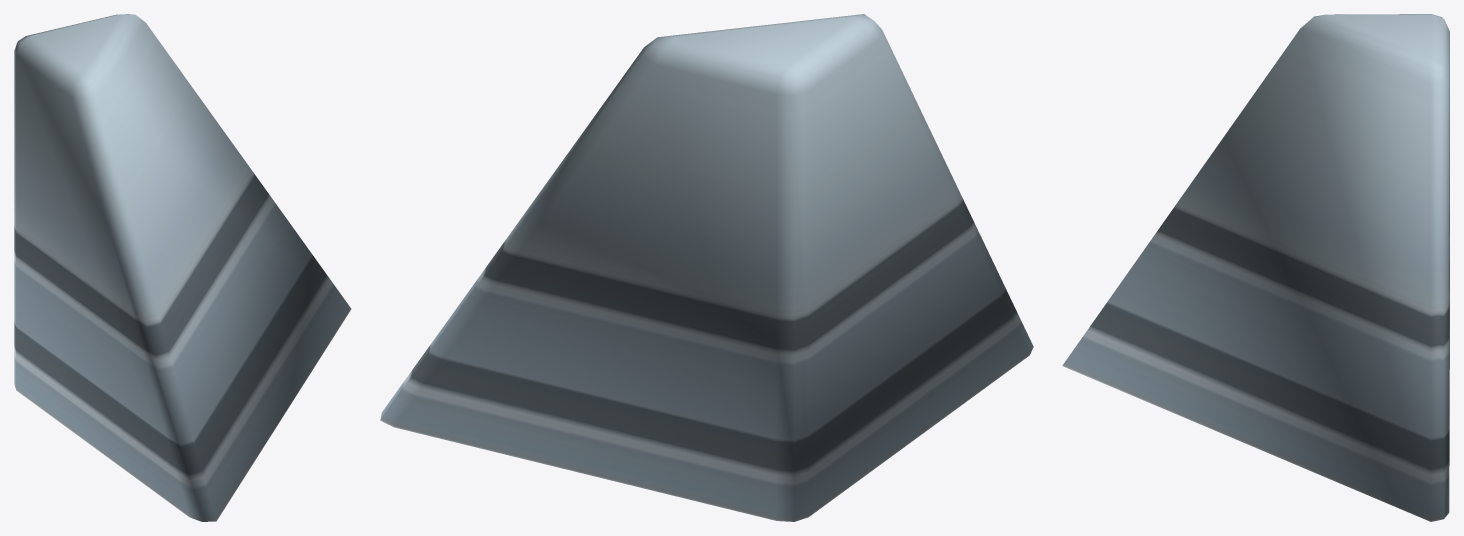
The model's file is wall_angle.obj.
3 views of the same model, side by side, from view 1: azimuth 30°, elevation 25°; view 2: azimuth 150°, elevation 25°; view 3: azimuth 270°, elevation 25° (orthographic). The views are drawn at different scales.
Visible parts, largest first — view 1: wall_transi_Cube.005; view 2: wall_transi_Cube.005; view 3: wall_transi_Cube.005.
Boxes of the visible parts, <box> form: wall_transi_Cube.005: <box>14,14,351,521</box>; wall_transi_Cube.005: <box>380,14,1033,521</box>; wall_transi_Cube.005: <box>1062,14,1449,521</box>.
Bounding box in the file's own units: 2 × 2 × 2.
1 material, 1 textured.
